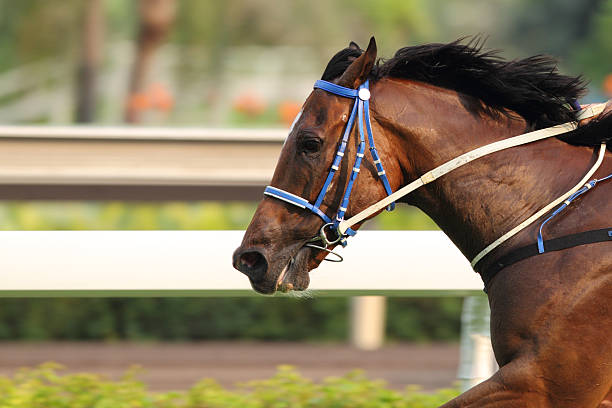Horse: (191, 20, 612, 405)
